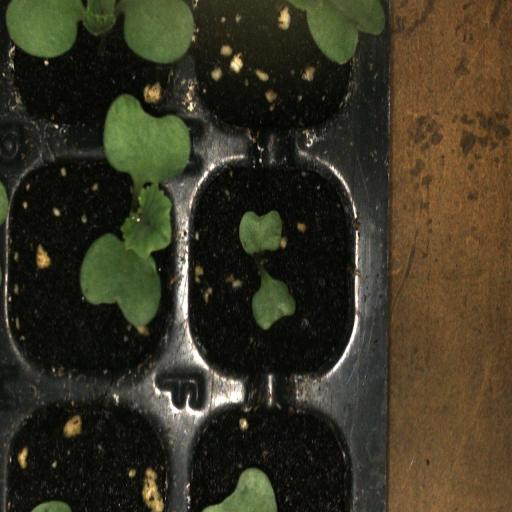seedling: (3, 148, 186, 388), (7, 0, 188, 153)
weak: (186, 150, 362, 391)
